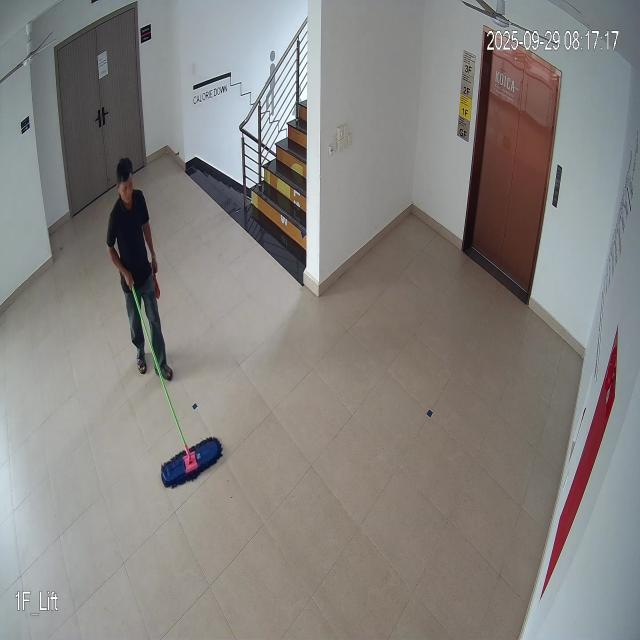face: (112, 154, 137, 211)
